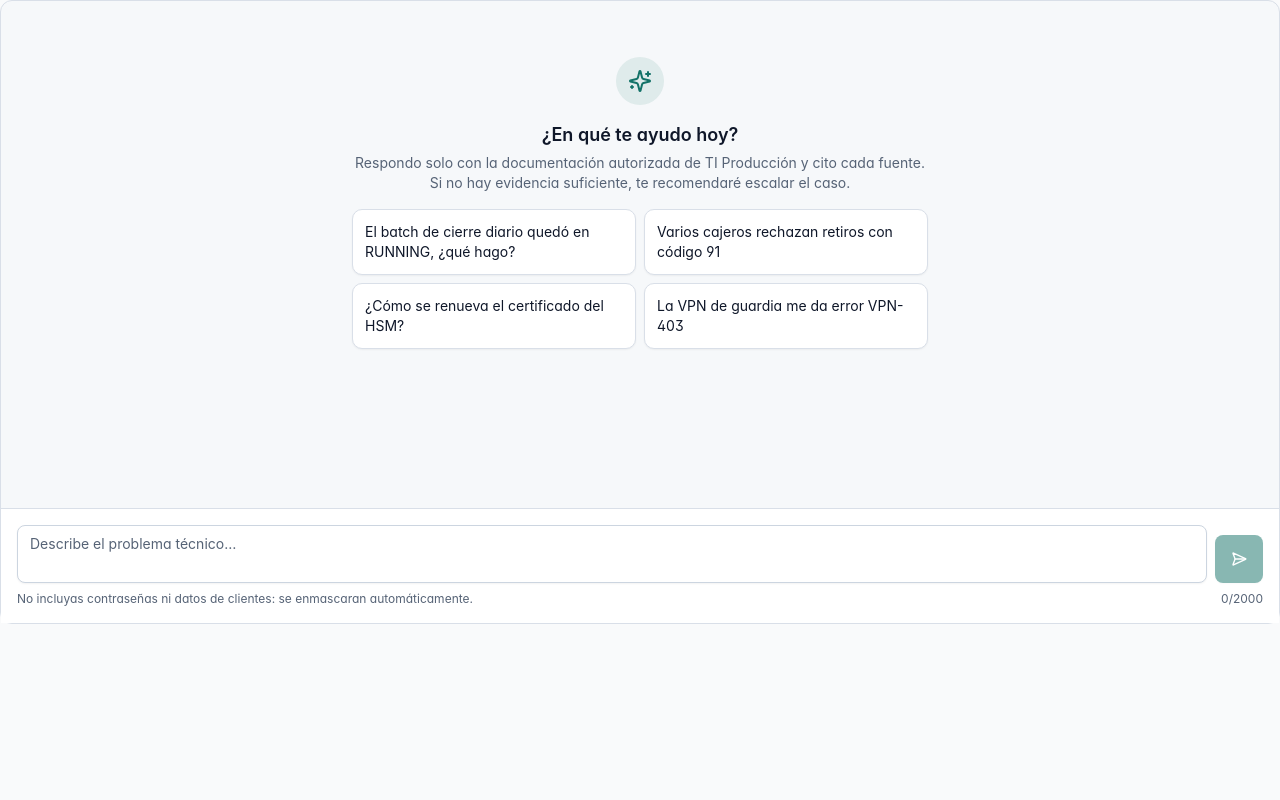
Test: FeedbackButtons › 👍 envía la valoración y 👎 pide comentario
In the text box named "Escribe tu consulta": coordinates (612, 554) left=17, top=525, right=1207, bottom=583, type "Pregunta de prueba"
Then press Enter
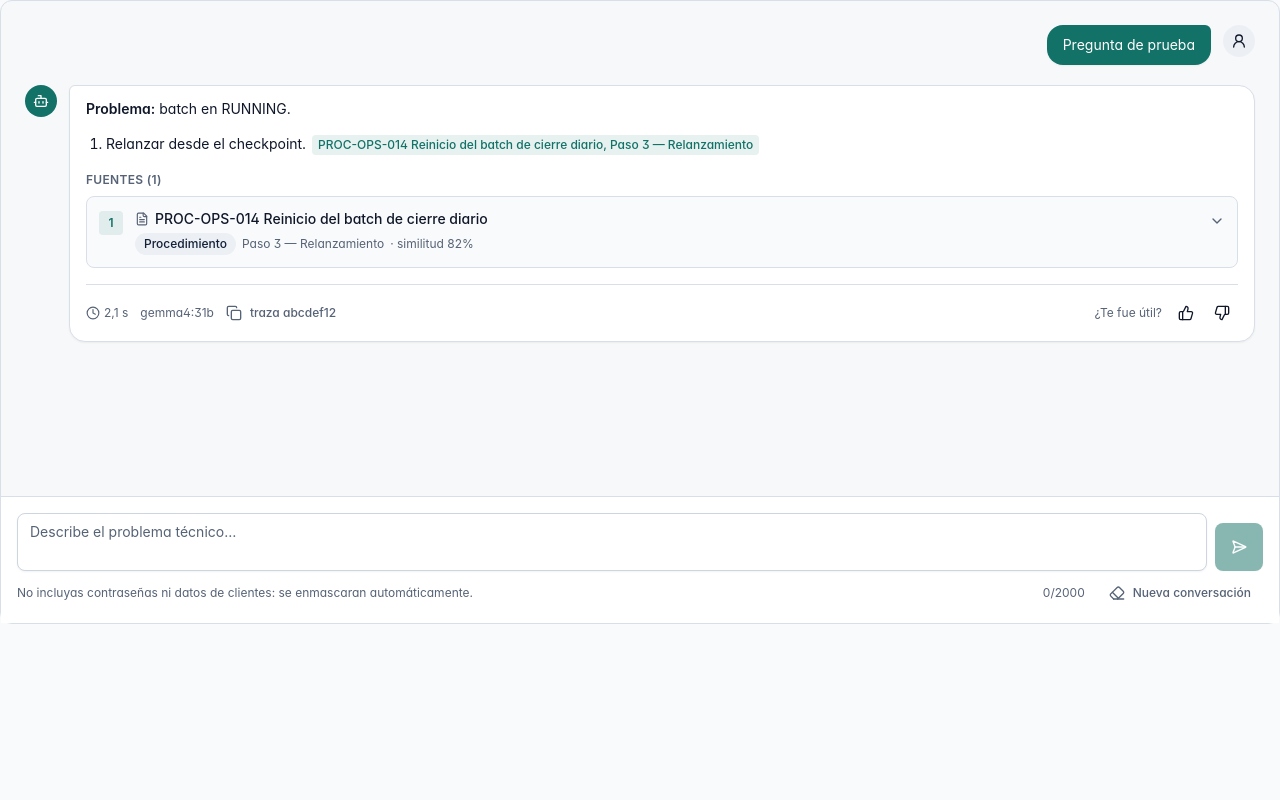
Result: the element named "Respuesta del asistente" is shown at left=69, top=85, right=1255, bottom=342
Click the button named "Respuesta no útil": coordinates (1222, 312) left=1206, top=296, right=1238, bottom=328
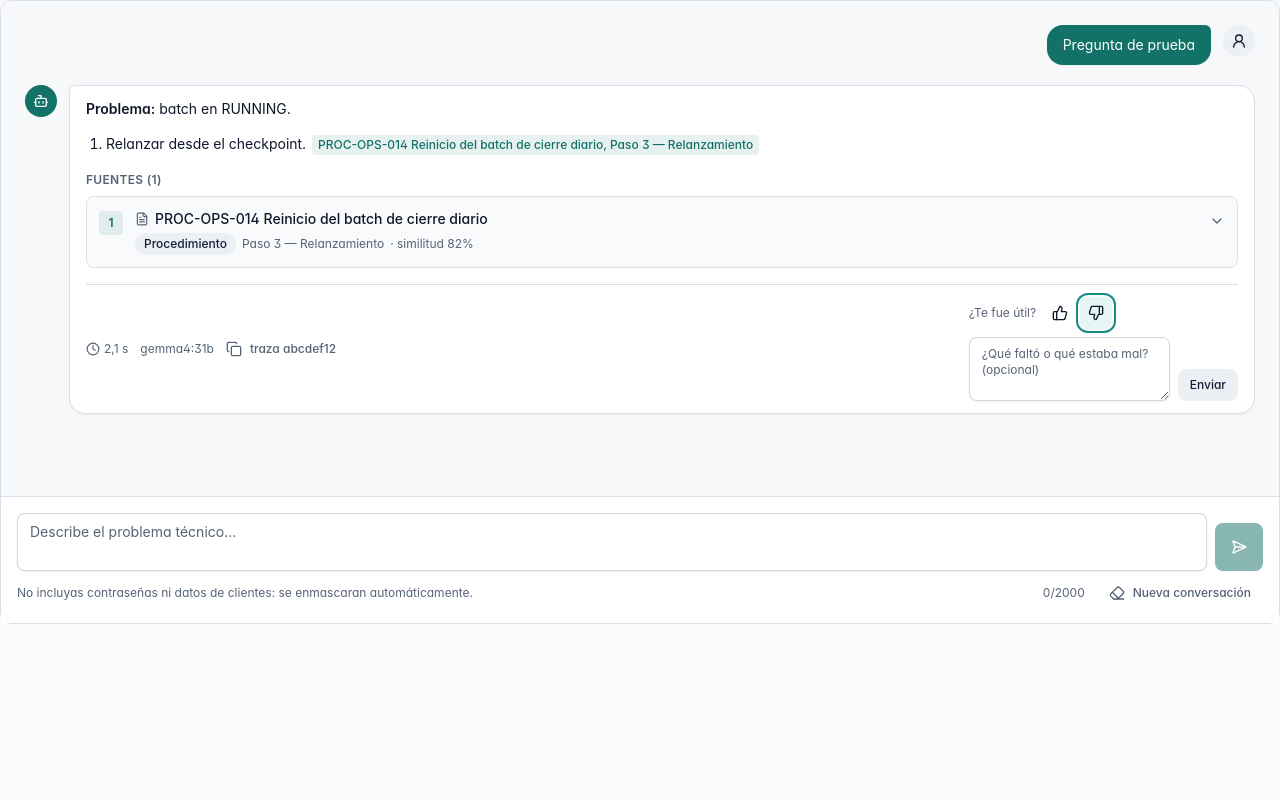
In the text box named "Comentario opcional": coordinates (1069, 368) left=969, top=336, right=1170, bottom=400, type "Faltó el paso 1"
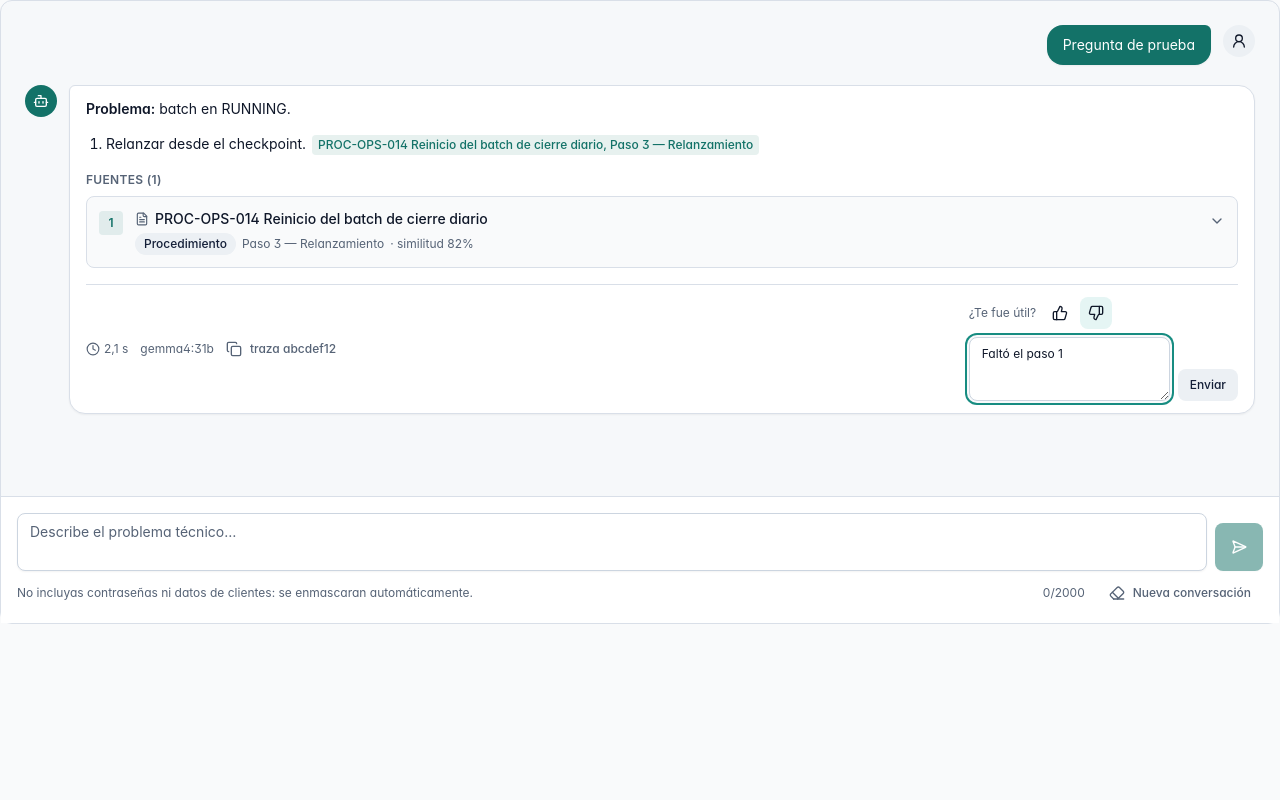
Click the button "Enviar": coordinates (1208, 384) left=1178, top=368, right=1238, bottom=400
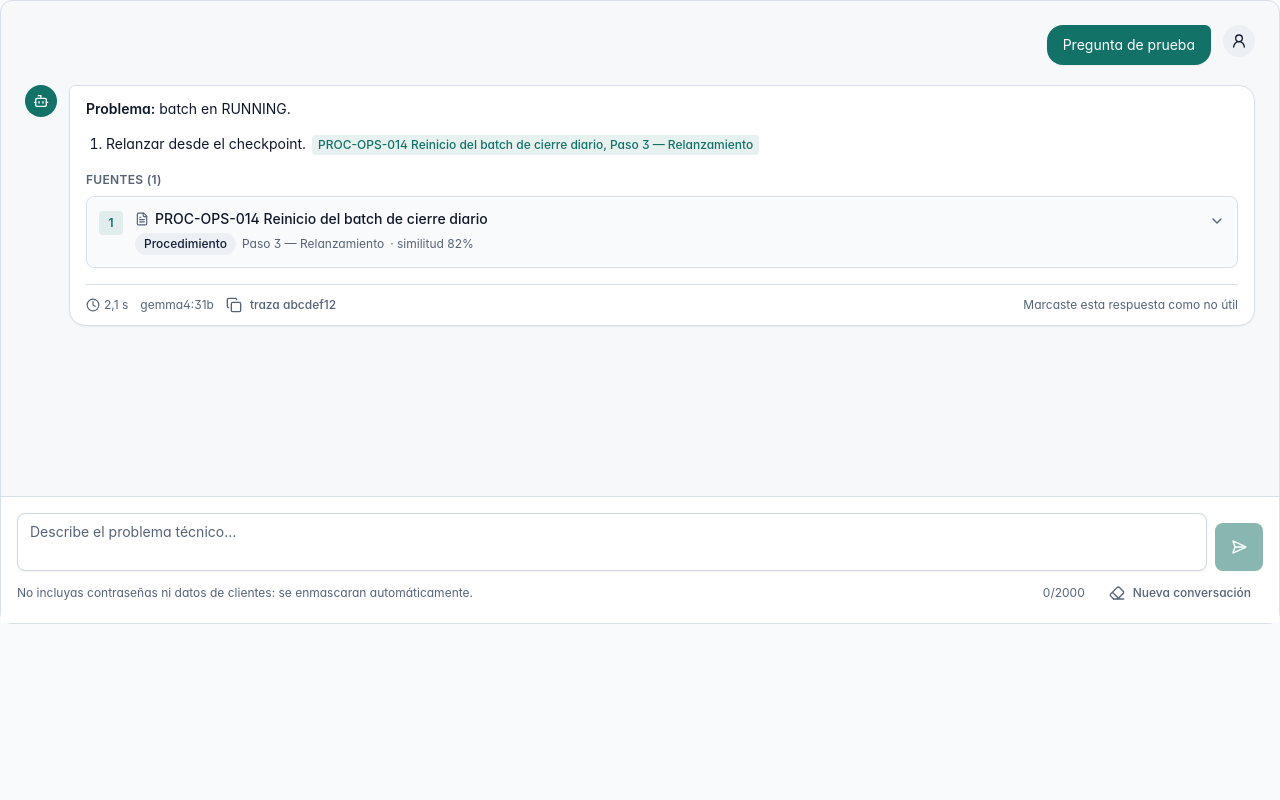
Result: the text "Marcaste esta respuesta como no útil" is shown at left=1023, top=296, right=1238, bottom=312
